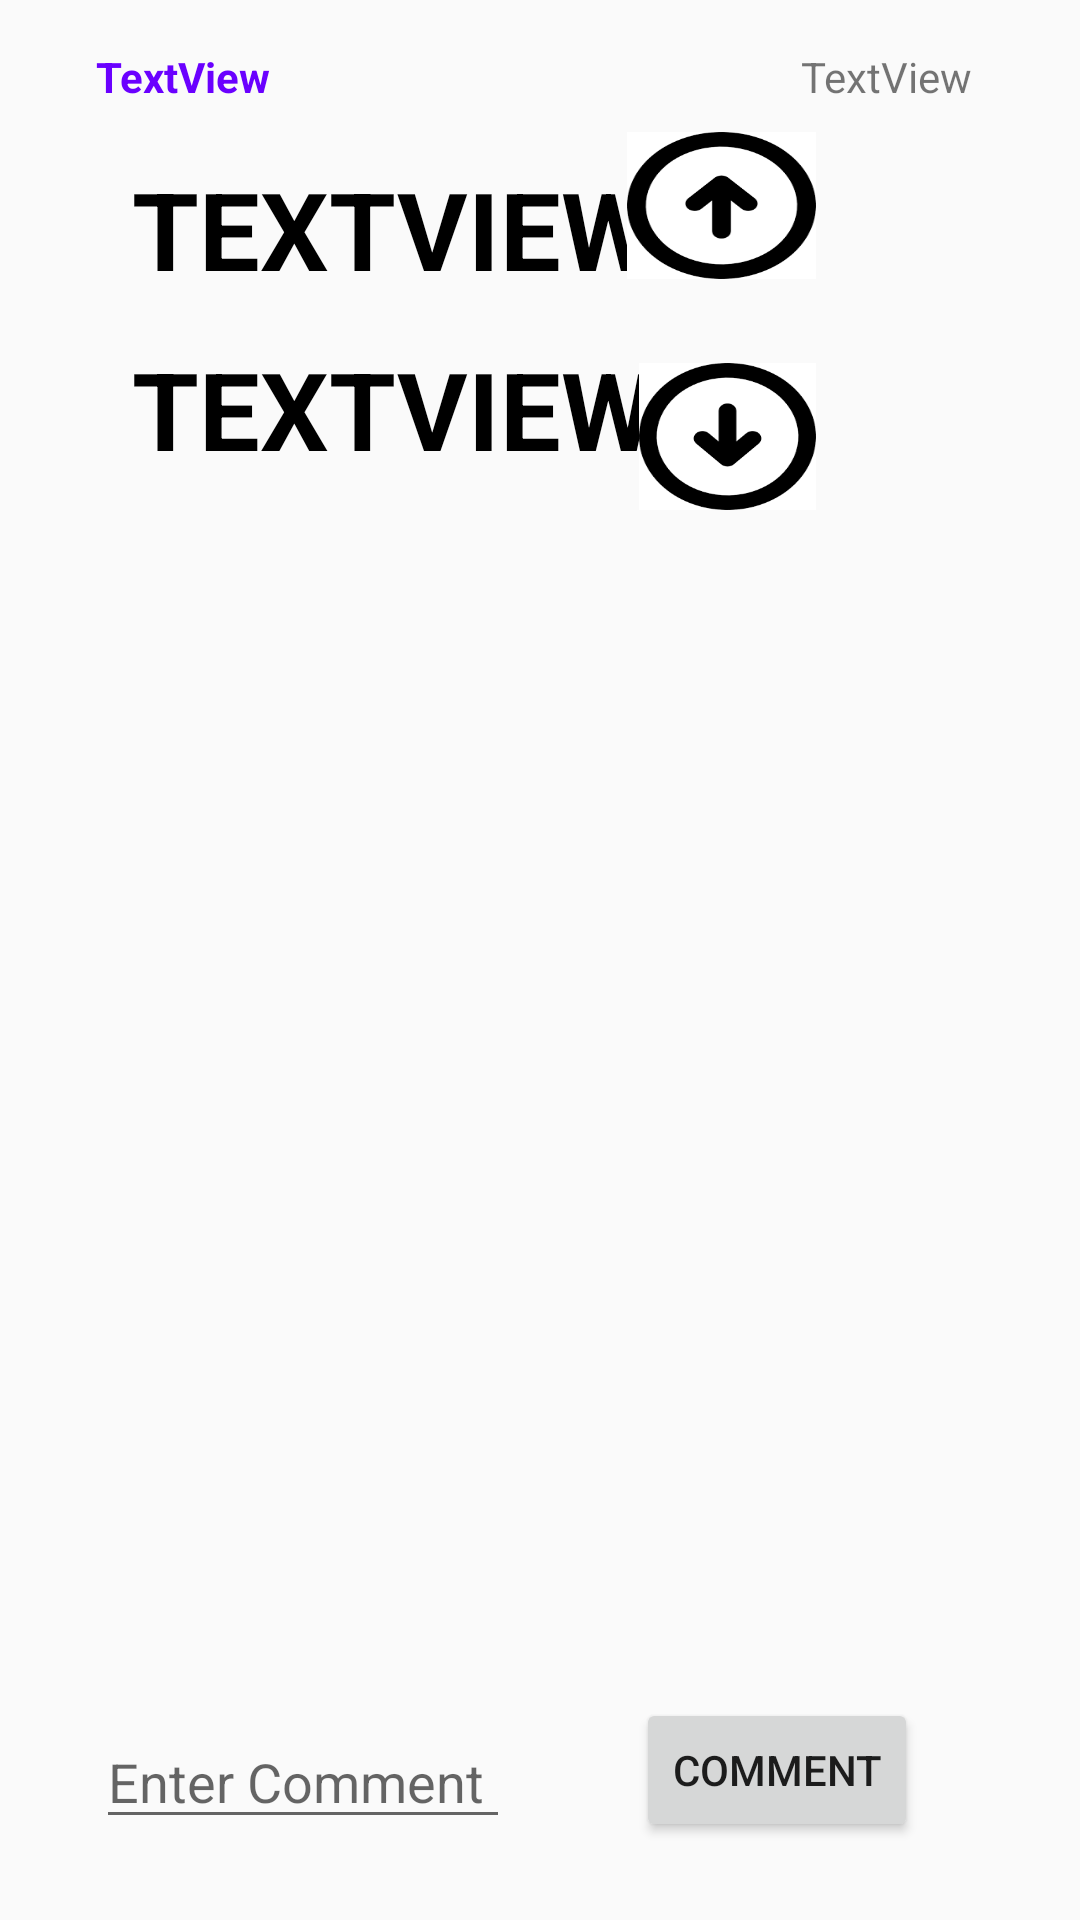

Point at icon controls on the screen. Image size 1080 × 1920, points as (x=x, y=y).
down: (x=727, y=436)
